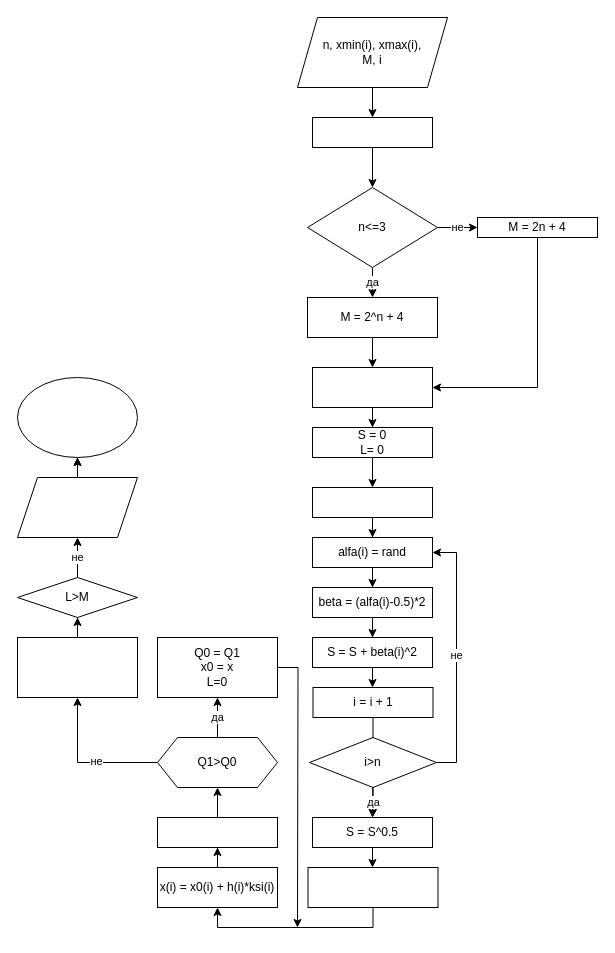
This 615x953 diagram has some shape labels left out. The box of each missing label's shape, as (x1, y1, x2, y2) in pixels:
Fun2(x)->max: (312, 116, 432, 148)
i=1: (312, 486, 432, 518)
ksi(i)=beta(i)/S i = 1,2 ... n: (307, 866, 438, 908)
L = L+1: (16, 636, 138, 698)
Q0 = Fun2( x0 ): (312, 366, 432, 408)
Q1 = Fun2(x): (156, 816, 278, 848)
Край: (16, 376, 138, 458)
